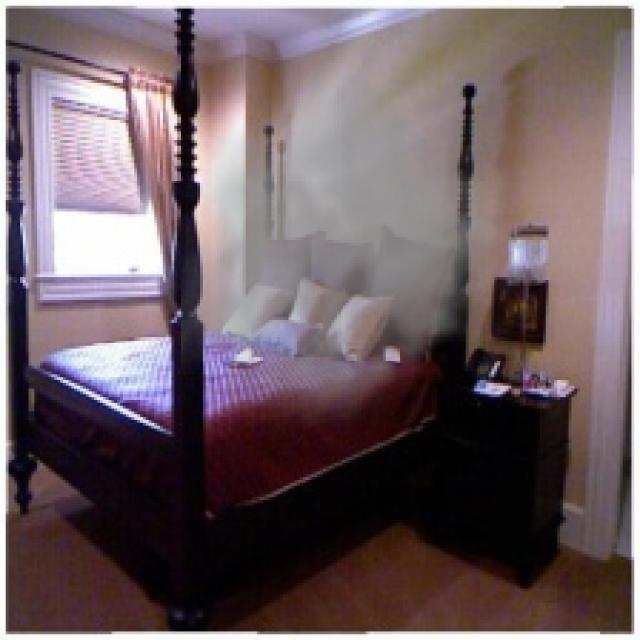Smoke: (180, 54, 537, 440)
